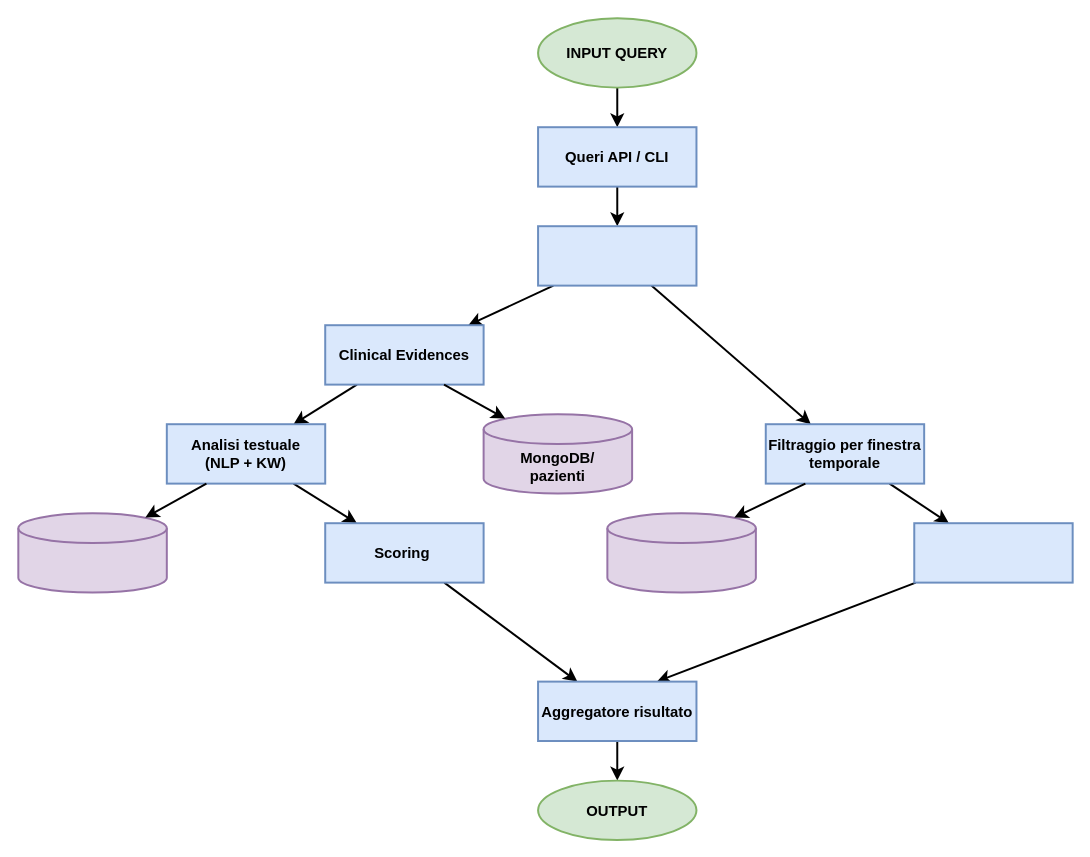
Some shapes in this 1090 by 857 pixel diagram are drawn without their labels. Each missing label, with the box of its shape:
MongoDB/ eventi_calendario: (606, 512, 756, 593)
MongoDB/ schede_valutazione diario_trattamenti: (17, 512, 167, 593)
Query Parsing Query Vectorization Query Orchestration: (537, 225, 697, 286)
Ultimo appuntamento (no_show?): (913, 522, 1073, 583)
